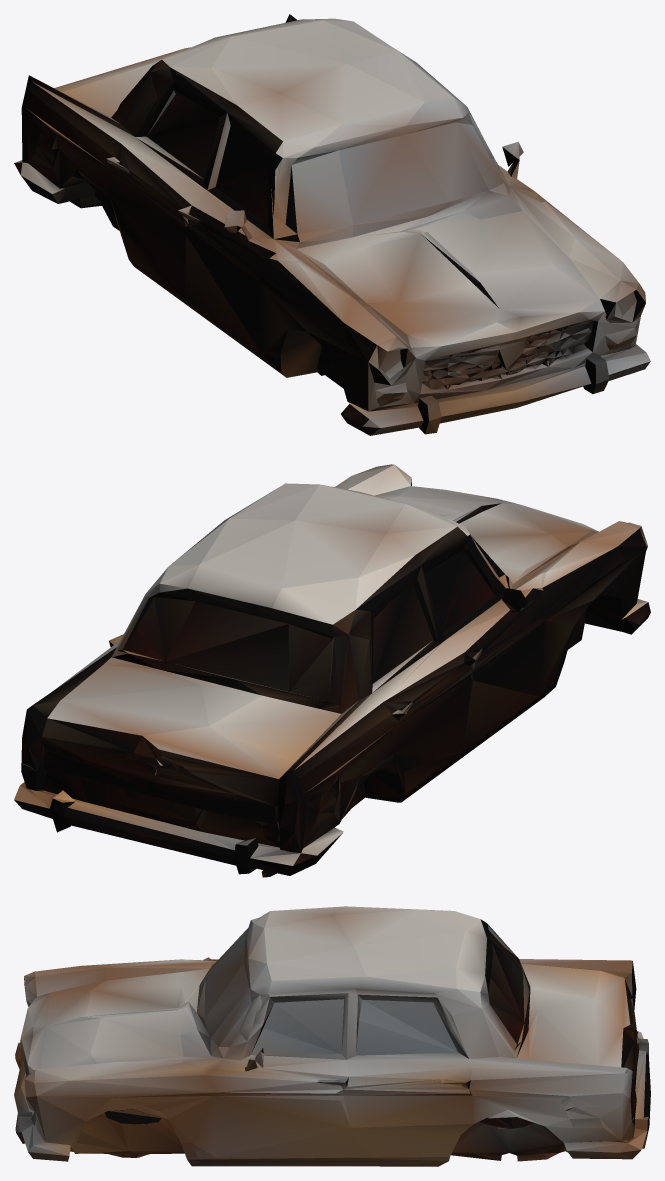
File: peugeot_404.glb
The picture shows the model from 3 angles, top to bottom: view 1: azimuth 30°, elevation 25°; view 2: azimuth 150°, elevation 25°; view 3: azimuth 270°, elevation 25°; orthographic projection. The views are drawn at different scales.
Parts seen in each view (by area): view 1: Wreck_peugeot_404; view 2: Wreck_peugeot_404; view 3: Wreck_peugeot_404.
Boxes of the visible parts, left/top/right/bottom form: Wreck_peugeot_404: left=14, top=14, right=650, bottom=435; Wreck_peugeot_404: left=14, top=464, right=650, bottom=877; Wreck_peugeot_404: left=14, top=906, right=650, bottom=1166.
Bounding box in the file's own units: 2.08 × 1.47 × 4.44.
